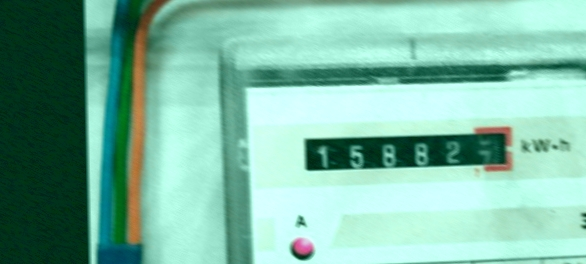1: (318, 139, 331, 169)
2: (445, 138, 462, 164)
5: (349, 141, 366, 171)
7: (478, 146, 491, 163)
8: (414, 138, 430, 167), (381, 140, 397, 168)
screen: (293, 116, 521, 182)
